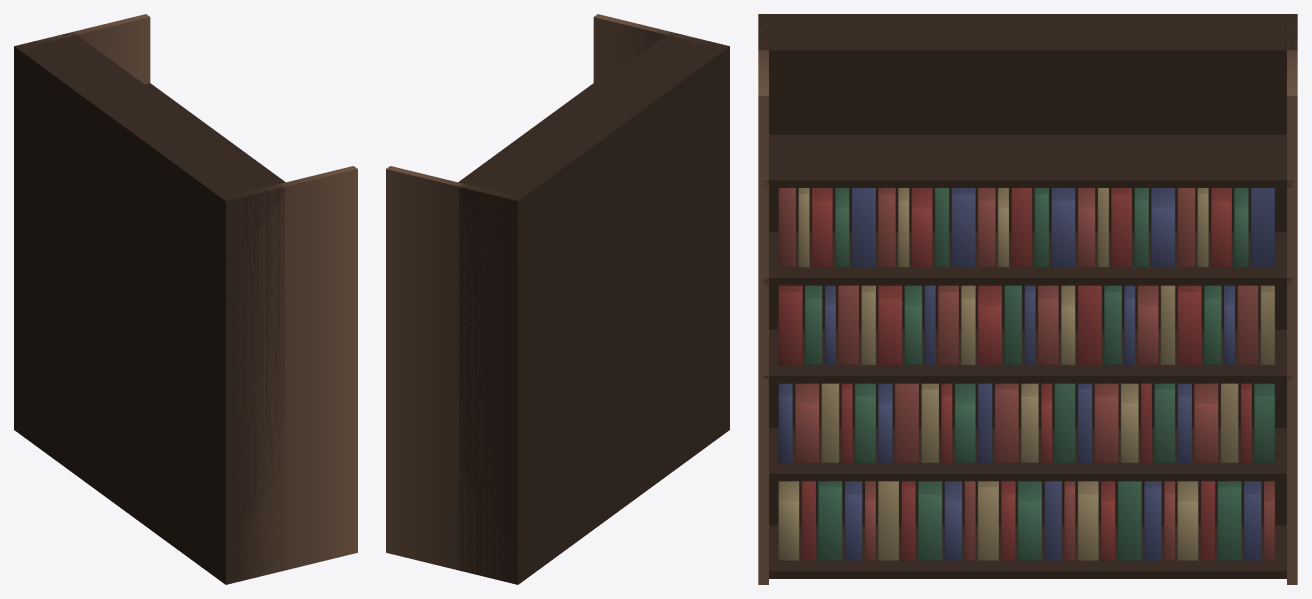
Rendered from bookcase.glb.
3 renders of one model, left to right at view 1: azimuth 30°, elevation 25°; view 2: azimuth 150°, elevation 25°; view 3: azimuth 270°, elevation 25°, orthographic. The views are drawn at different scales.
Parts seen in each view (by area): view 1: boat_darkwood; view 2: boat_darkwood; view 3: boat_darkwood, boat_book2, boat_book1, boat_redleather, boat_book4, boat_book3.
Boxes of the visible parts, x1,y1,x2,y2 form: boat_darkwood: (14, 14, 357, 584); boat_darkwood: (386, 14, 729, 584); boat_darkwood: (758, 14, 1297, 584); boat_book2: (804, 188, 1274, 560); boat_book1: (778, 188, 1274, 560); boat_redleather: (778, 188, 1251, 560); boat_book4: (778, 188, 1274, 560); boat_book3: (778, 188, 1274, 560).
Size of the model in its own units: 0.36 by 1 by 1.
